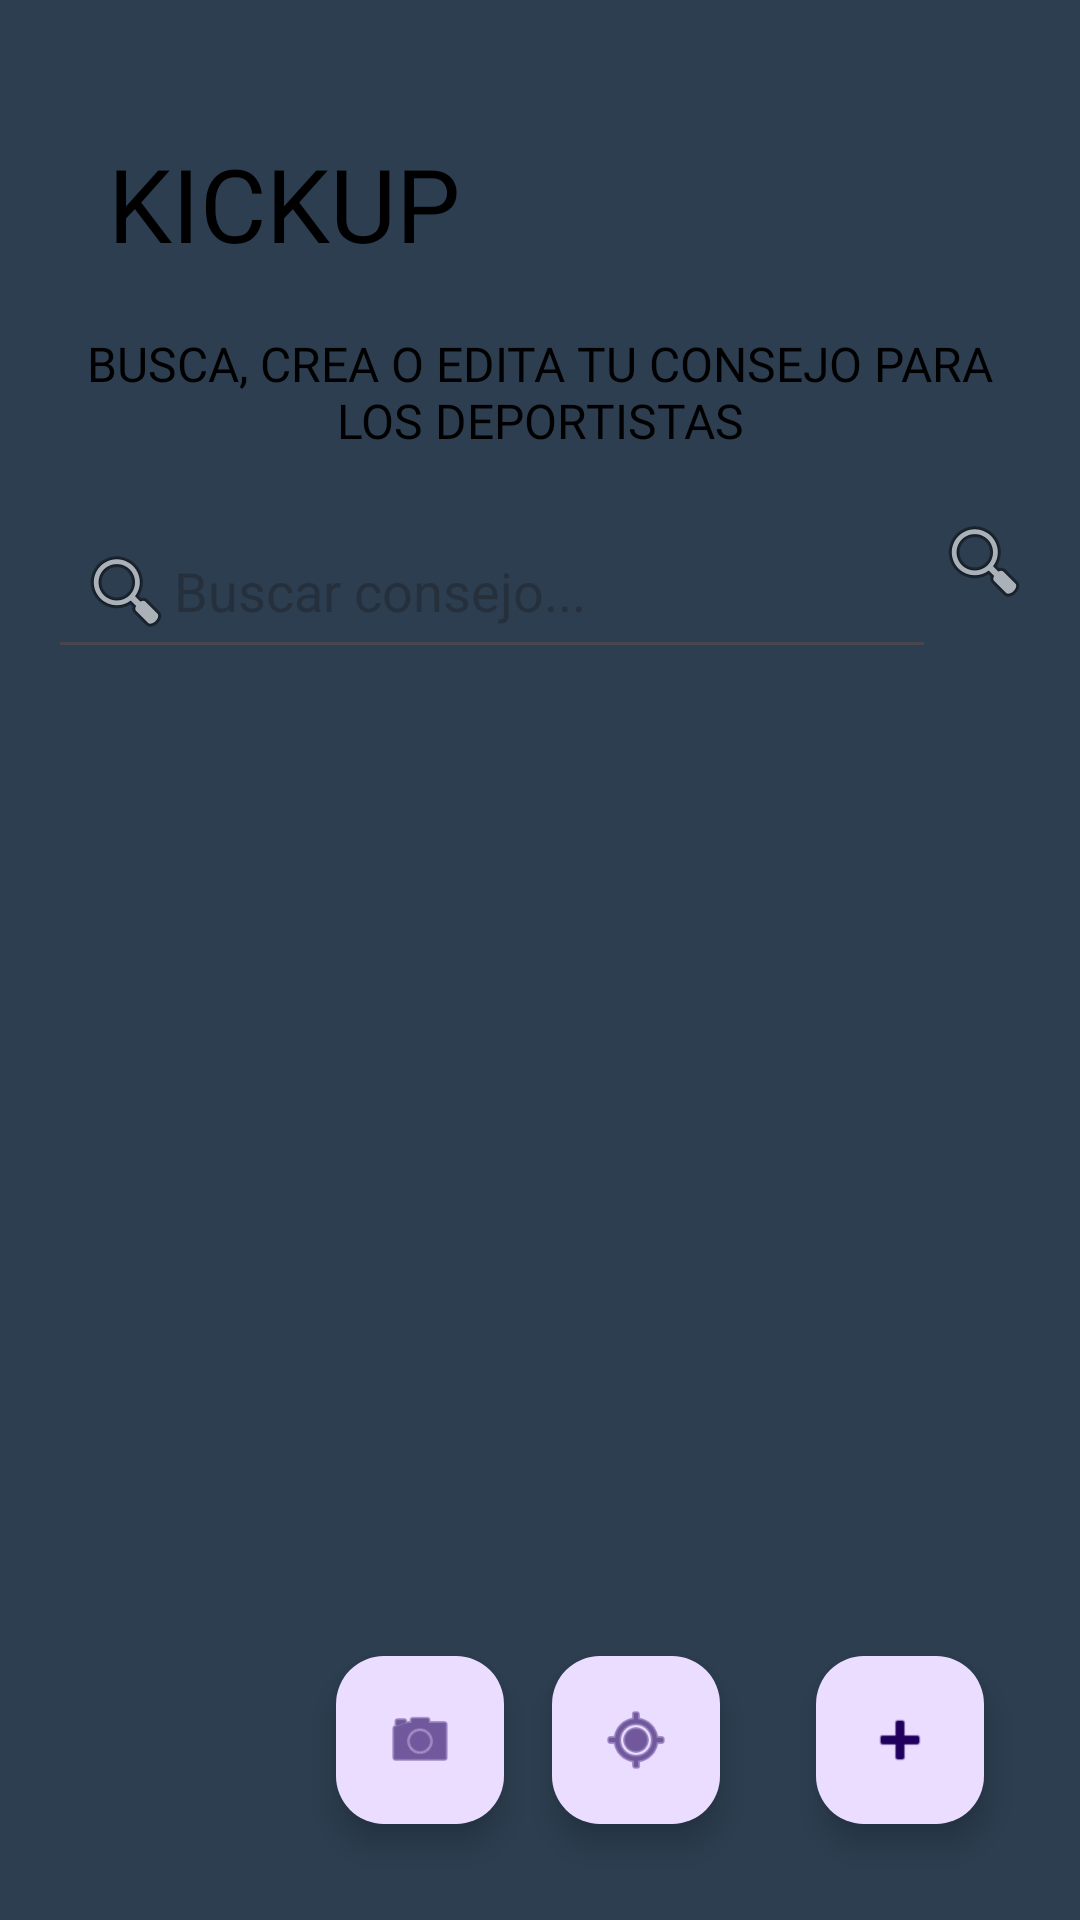

Named icons in this screenshot (1080×1920) and their centers, (x=x, y=y):
Abrir cámara: (x=420, y=1740)
Abrir geolocalización: (x=636, y=1740)
Crear nuevo informe: (x=900, y=1740)
